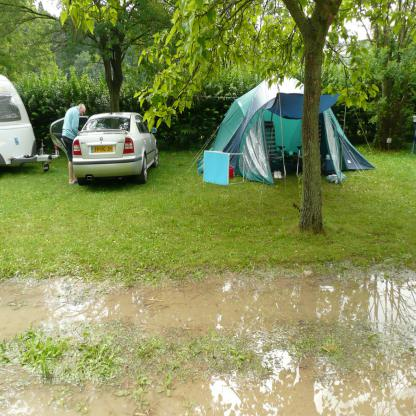Car: (49, 110, 159, 187)
